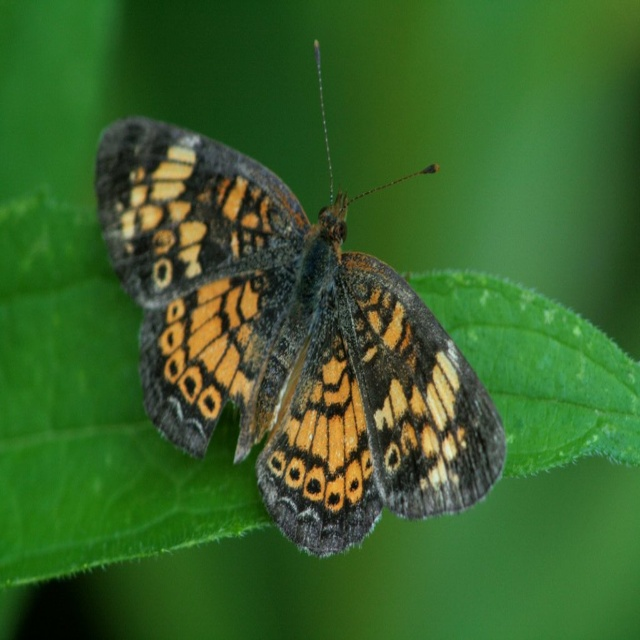Butterfly: (86, 29, 524, 558)
